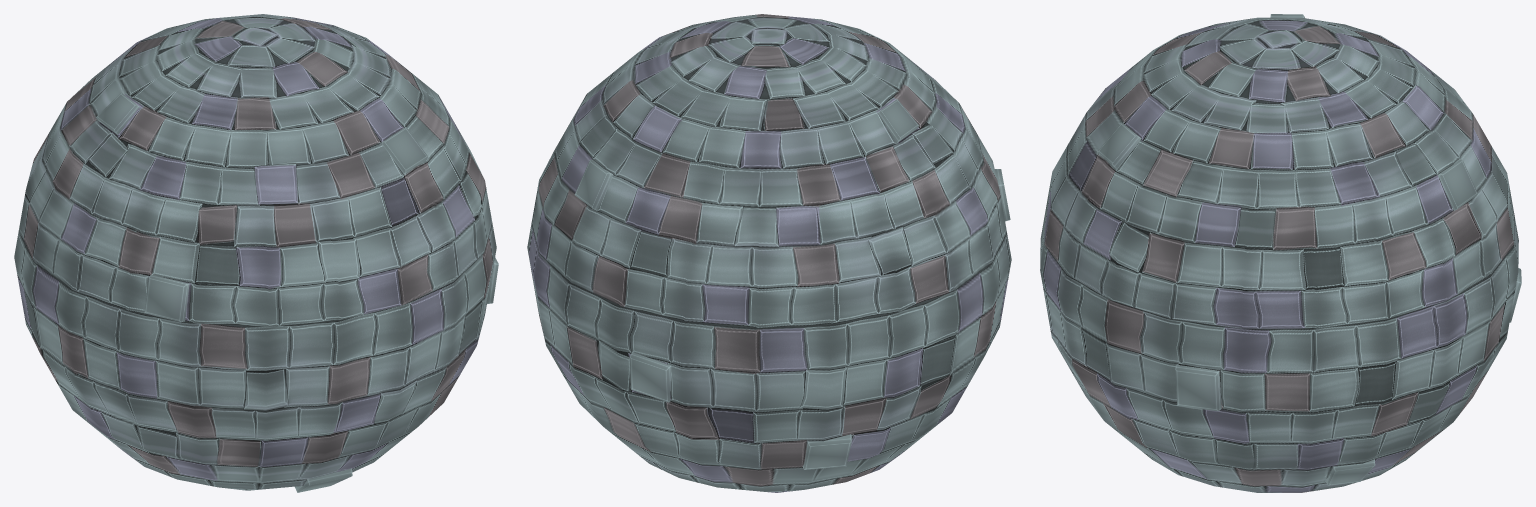
File: disco.glb
3 views of the same model, side by side, from view 1: azimuth 30°, elevation 25°; view 2: azimuth 150°, elevation 25°; view 3: azimuth 270°, elevation 25° (orthographic).
Parts seen in each view (by area): view 1: node_id30; view 2: node_id30; view 3: node_id30.
Boxes of the visible parts, box(x1,y1,x2,y2) form: node_id30: box(14, 14, 498, 492); node_id30: box(527, 14, 1011, 492); node_id30: box(1040, 14, 1521, 492).
Size of the model in its own units: 0.5062 by 0.512 by 0.5094.
1 material, 1 textured.
